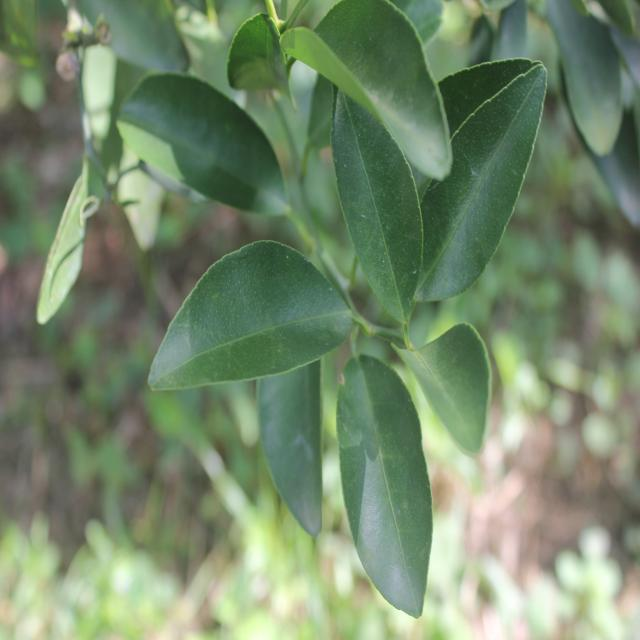healthy: (147, 237, 347, 381), (426, 65, 547, 302), (337, 360, 433, 620), (119, 73, 286, 214), (335, 90, 420, 314)
